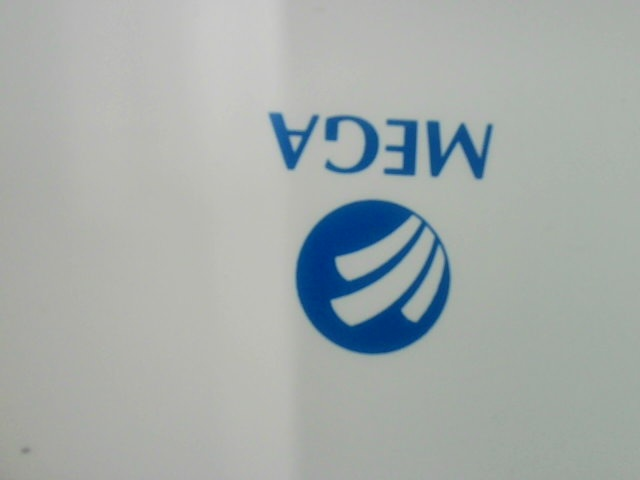AM_ZTEMEGA: (244, 99, 526, 369)
